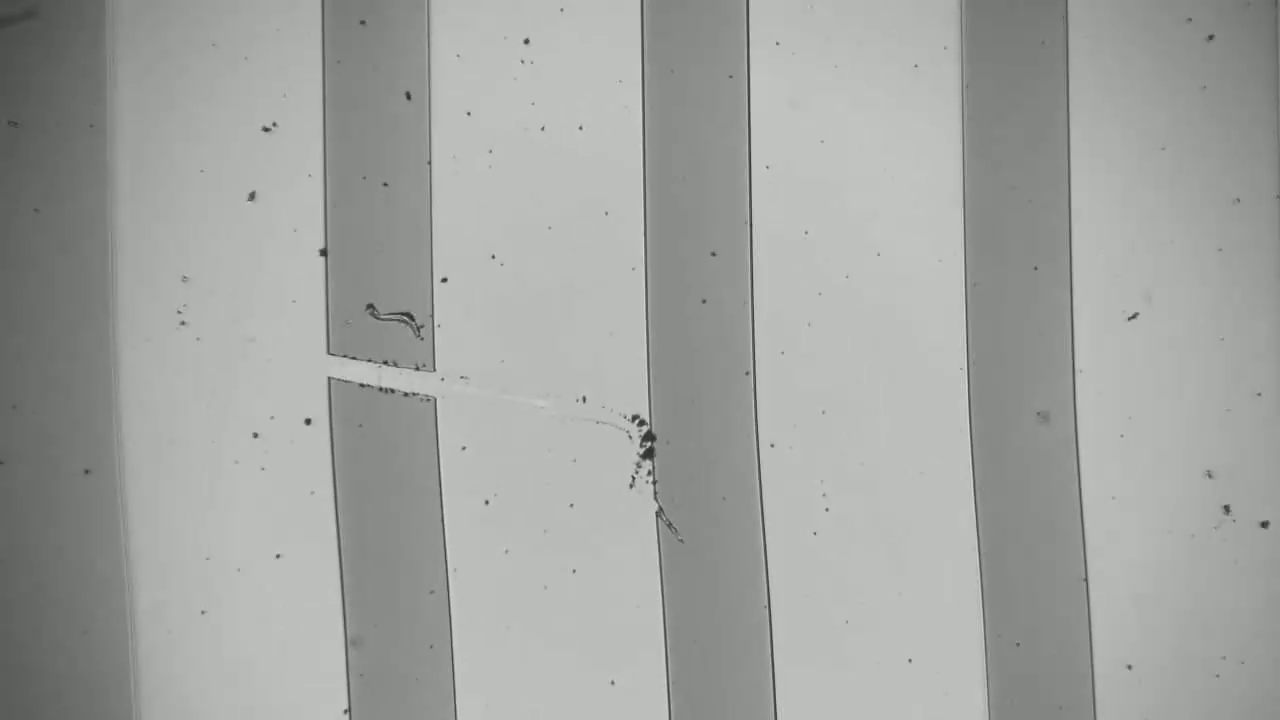Short_circuit: (303, 336, 476, 430)
